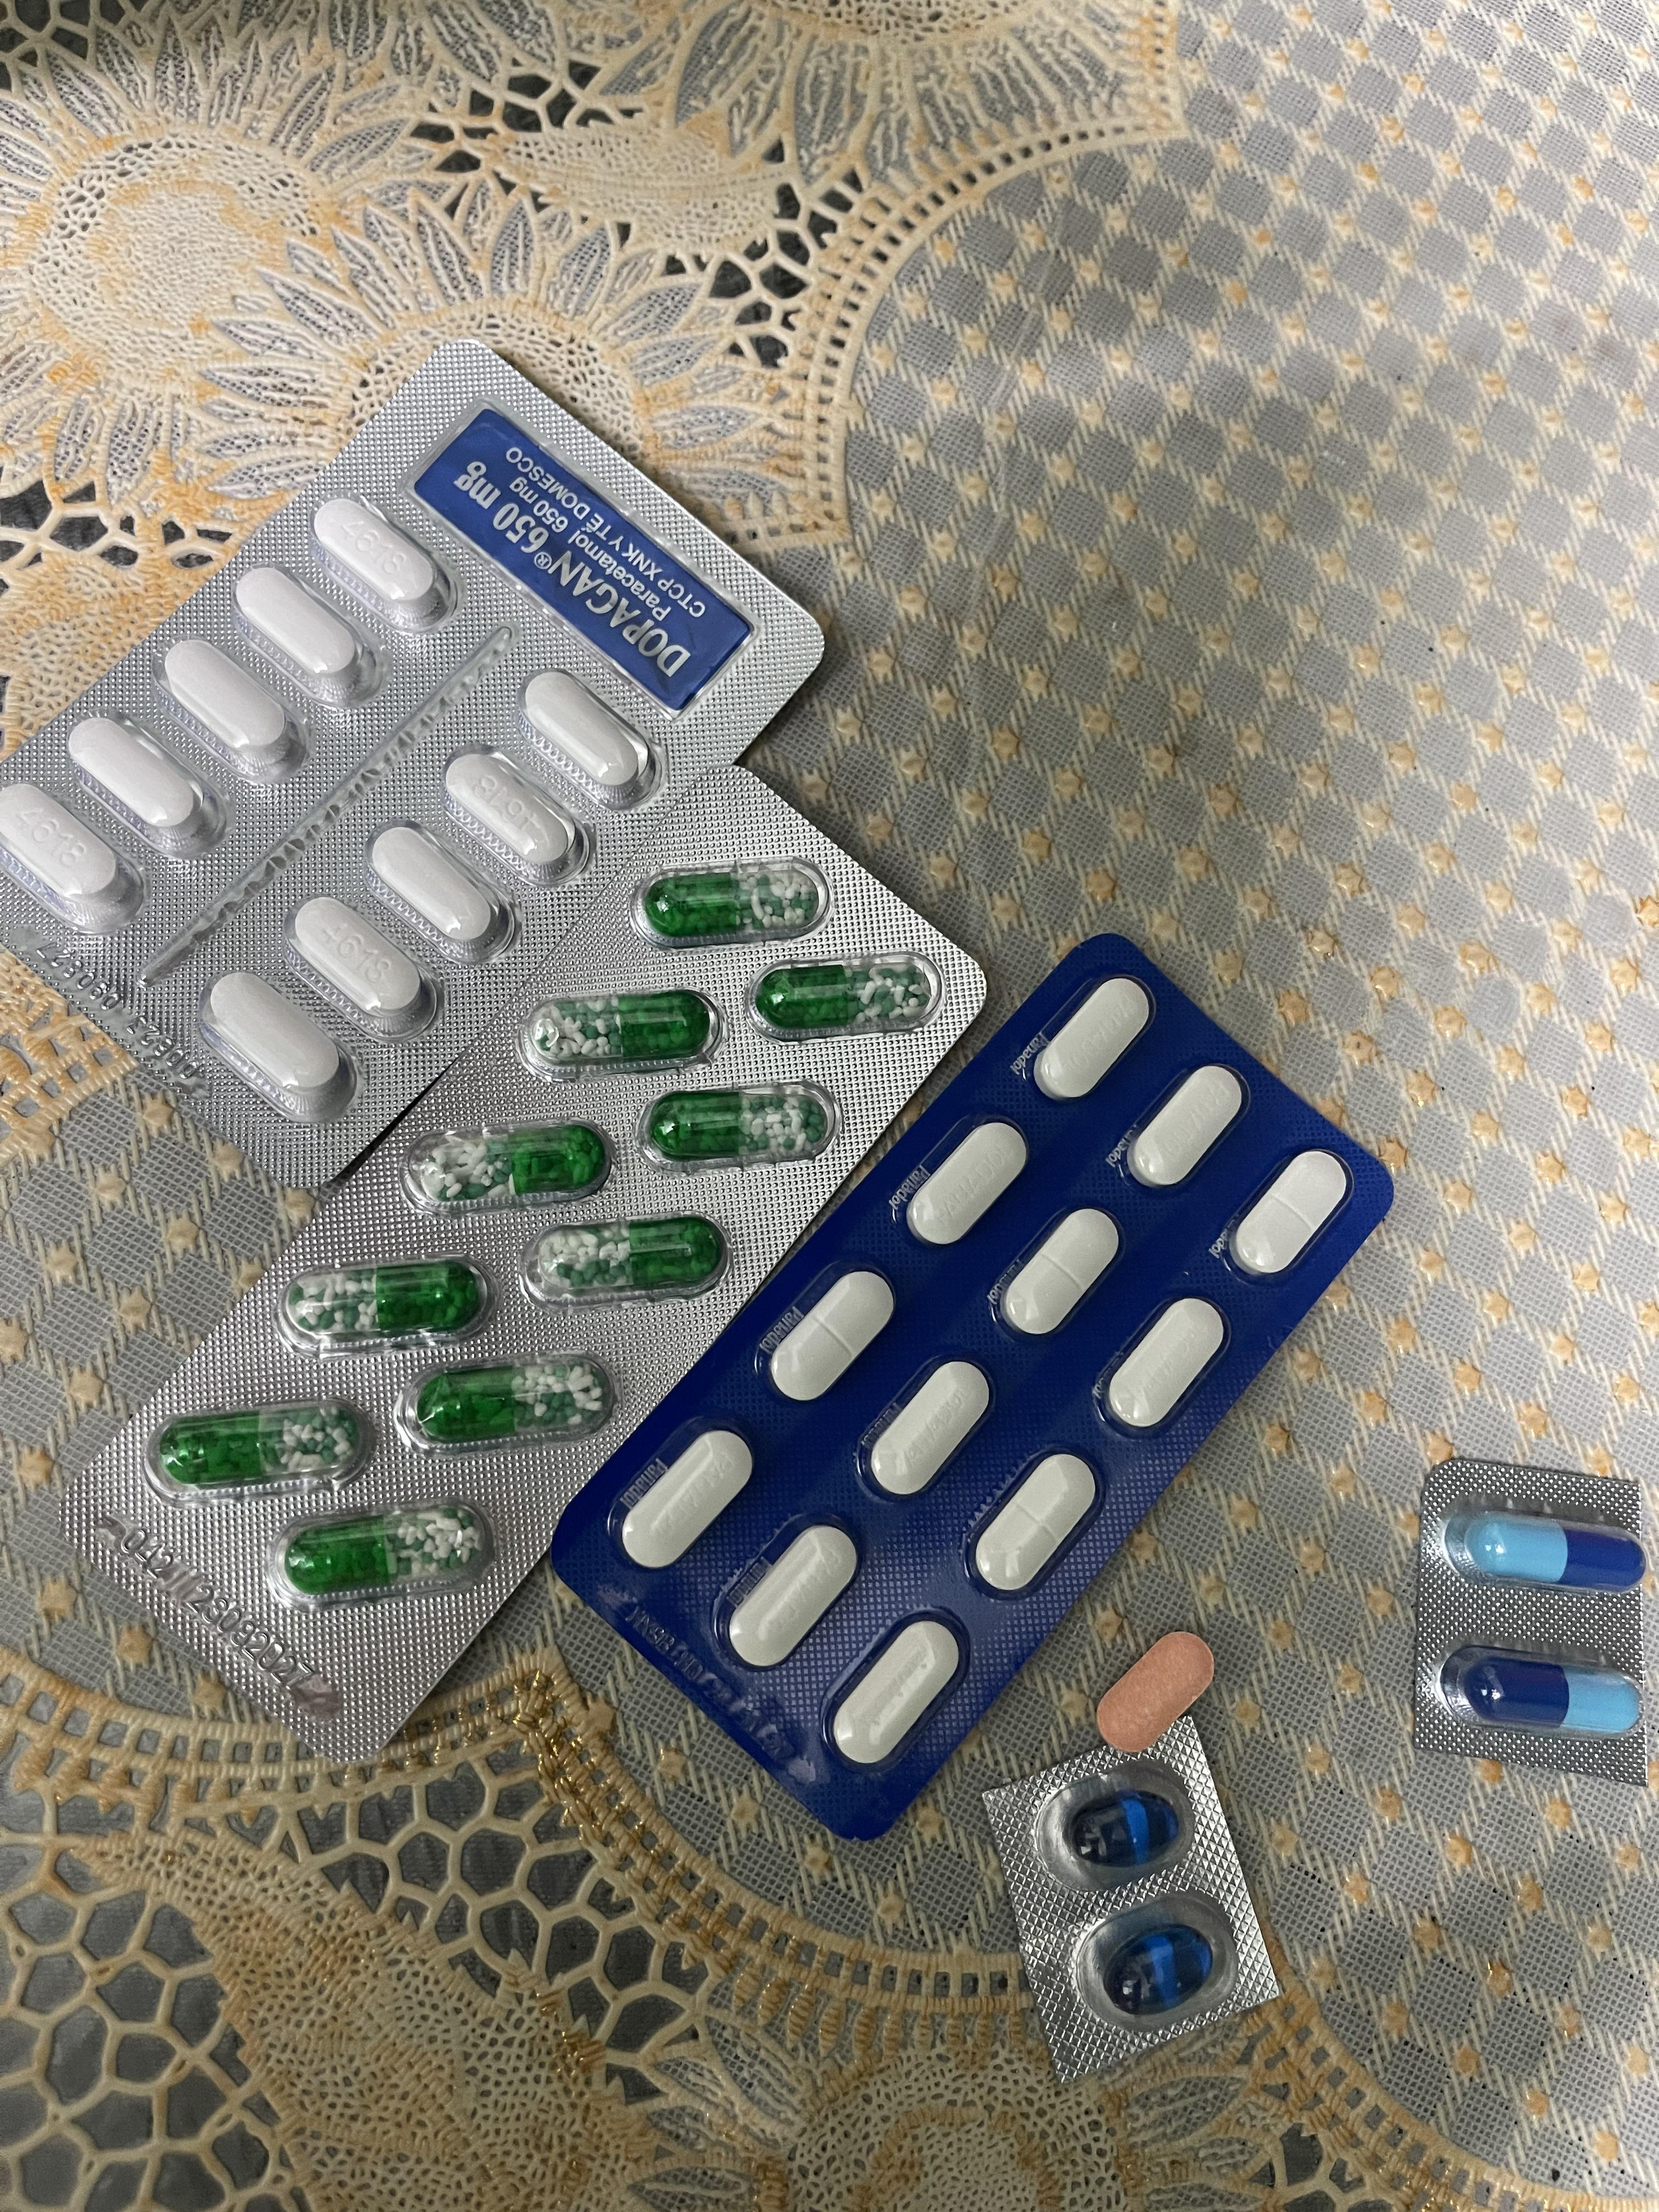Lincomyxin_500mg: (1105, 1927, 1212, 2013), (1066, 1791, 1176, 1868)
Loratadine_10mg: (1097, 1629, 1217, 1758)
Paracetamol_350mg: (618, 1428, 754, 1575), (830, 1624, 962, 1772), (725, 1520, 854, 1668), (971, 1453, 1101, 1596), (866, 1358, 993, 1502), (1102, 1299, 1225, 1438), (770, 1266, 891, 1402), (1229, 1150, 1350, 1278), (1000, 1211, 1120, 1340), (905, 1122, 1028, 1245), (1125, 1066, 1247, 1189), (1034, 978, 1153, 1095)
Paracetamol_500mg: (199, 975, 357, 1119), (288, 891, 441, 1032), (228, 569, 374, 713), (367, 824, 512, 964), (5, 782, 141, 928), (313, 496, 456, 635), (66, 713, 212, 848), (162, 639, 302, 778), (441, 749, 584, 879), (522, 670, 659, 805)
Paracetamol_650mg: (400, 1355, 618, 1452), (273, 1506, 486, 1596), (522, 1218, 724, 1305), (403, 1124, 604, 1209), (524, 984, 713, 1071), (159, 1407, 353, 1486), (755, 953, 933, 1034), (291, 1264, 478, 1339), (654, 1091, 815, 1160), (648, 870, 812, 937)
pill: (1447, 1509, 1644, 1594), (1449, 1652, 1640, 1733)
